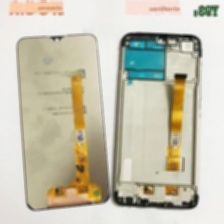phone: (13, 30, 113, 213), (109, 29, 205, 211)
